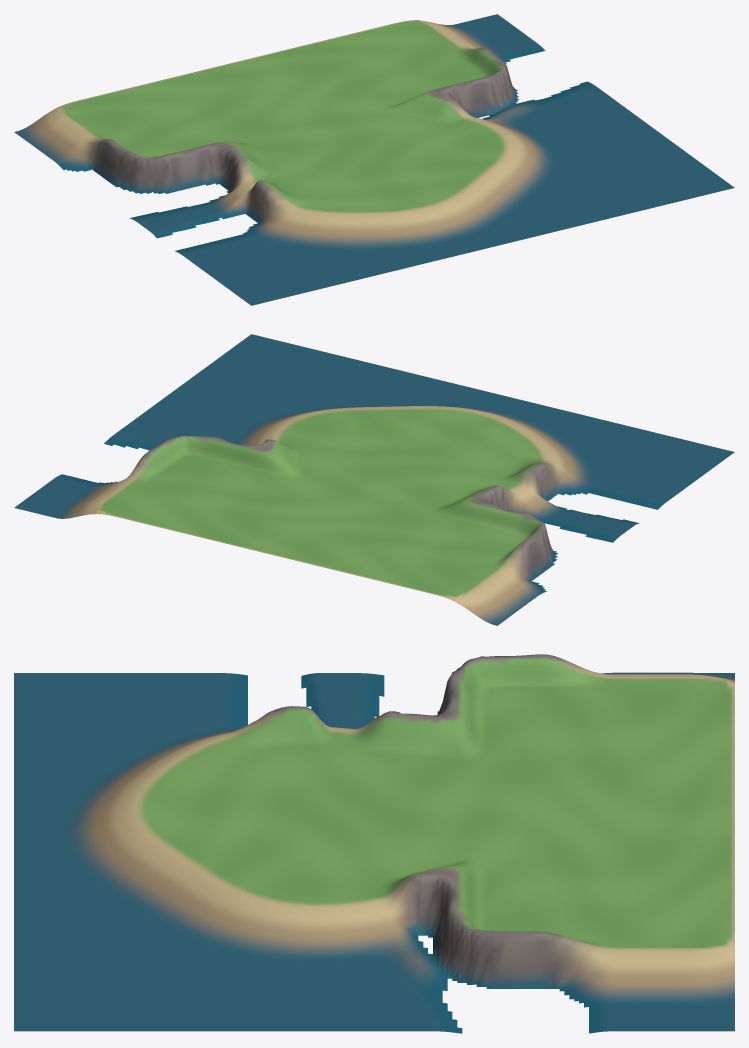
Rendered from terrain_s1.glb.
3 renders of one model, top to bottom at view 1: azimuth 30°, elevation 25°; view 2: azimuth 150°, elevation 25°; view 3: azimuth 270°, elevation 25°, orthographic. The views are drawn at different scales.
Parts seen in each view (by area): view 1: Terrain; view 2: Terrain; view 3: Terrain.
Boxes of the visible parts, x1,y1,x2,y2 form: Terrain: (14, 14, 734, 305); Terrain: (14, 334, 734, 625); Terrain: (14, 654, 734, 1033).
Bounding box in the file's own units: 17.4 × 1.07 × 14.8.
